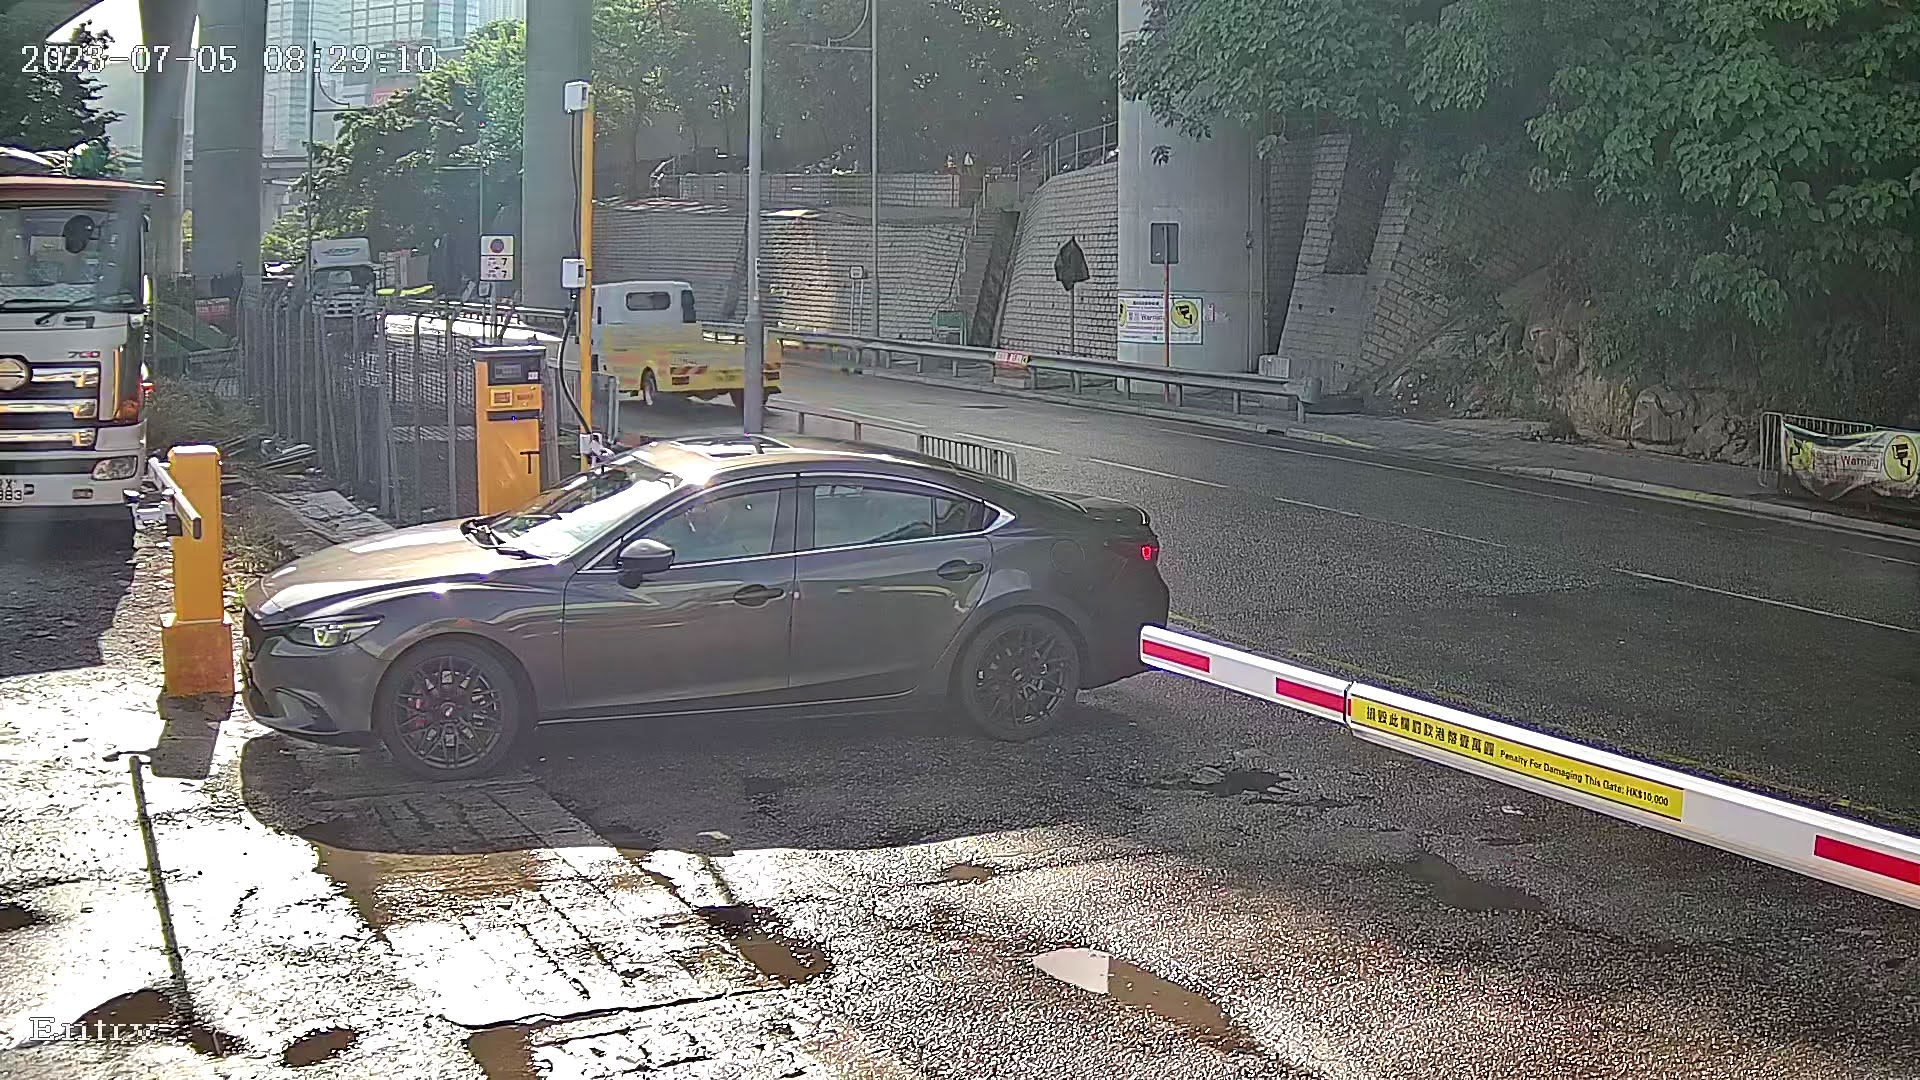privatecar: (177, 385, 1217, 818)
